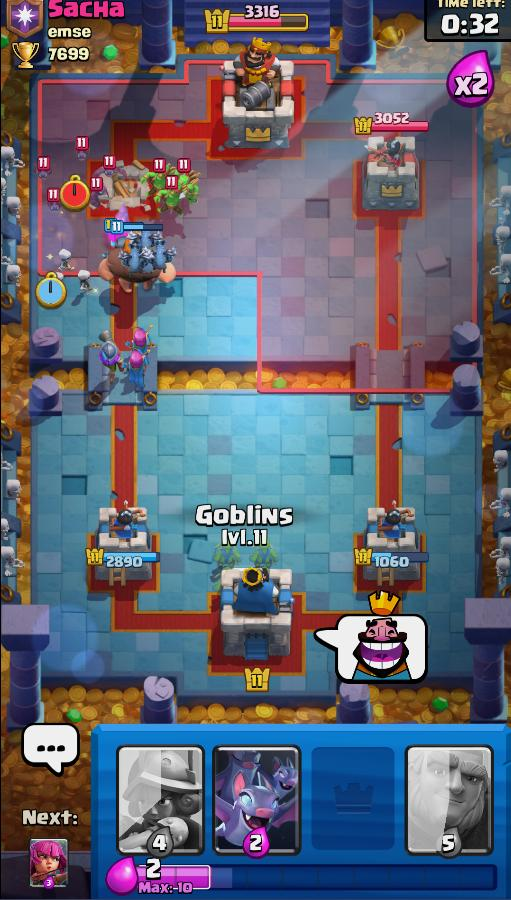archere: (122, 345, 157, 395), (123, 322, 157, 361)
bat: (83, 181, 117, 211), (87, 163, 131, 183), (27, 163, 61, 182), (70, 145, 97, 166), (43, 195, 67, 214)
gargouille: (112, 242, 152, 273), (147, 238, 181, 272), (133, 225, 167, 250)
geant: (93, 227, 183, 296)
gobelin: (247, 532, 281, 575), (212, 537, 242, 578)
gobelin_lances: (167, 168, 204, 204), (156, 185, 191, 217), (144, 163, 175, 194)
mousquetaire: (88, 319, 133, 387)
squelette: (73, 266, 101, 304), (53, 247, 80, 280)
